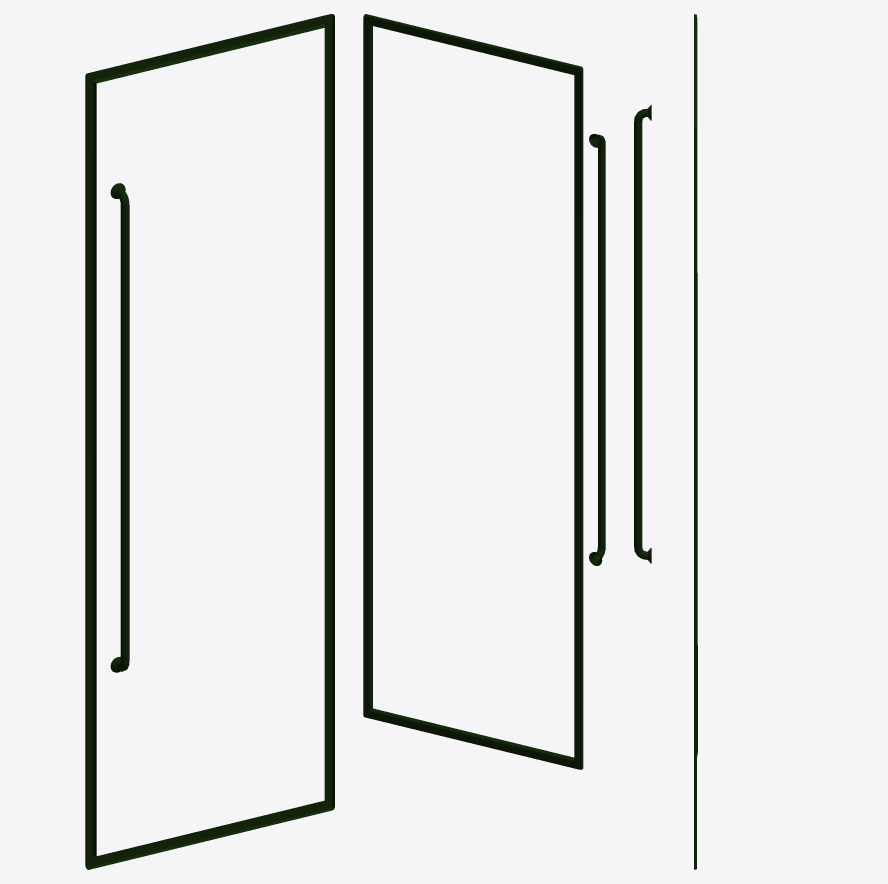
The model's file is Fridge_14_Mesh_3_5.obj.
3 views of the same model, side by side, from view 1: azimuth 30°, elevation 25°; view 2: azimuth 150°, elevation 25°; view 3: azimuth 270°, elevation 25° (orthographic). The views are drawn at different scales.
Size of the model in its own units: 0.5872 by 1.91 by 0.5246.
